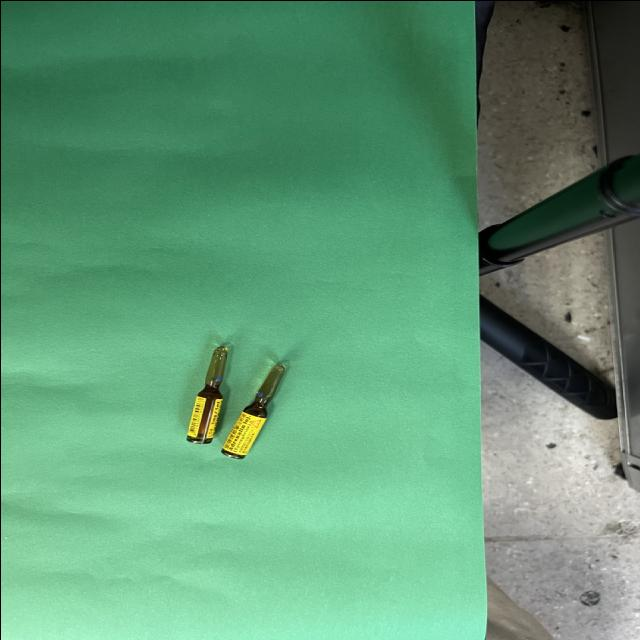Ampoules: (220, 363, 284, 458), (185, 345, 227, 443)
